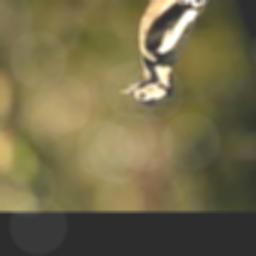Woodpecker: (117, 0, 213, 106)
